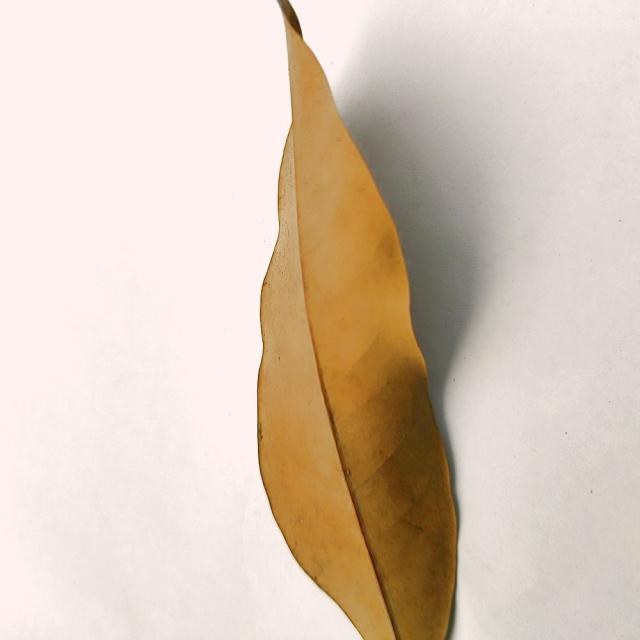Dry_Leaf-Lychee: (255, 0, 460, 639)
